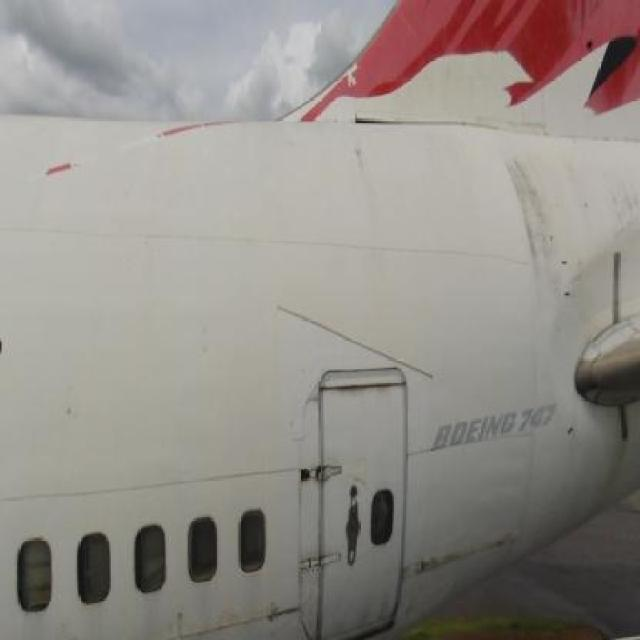Rust: (503, 143, 562, 289), (594, 142, 640, 248), (410, 541, 505, 577), (322, 373, 403, 412), (604, 412, 631, 499), (353, 588, 396, 632)
Scartch: (262, 593, 304, 627), (166, 607, 194, 639)
